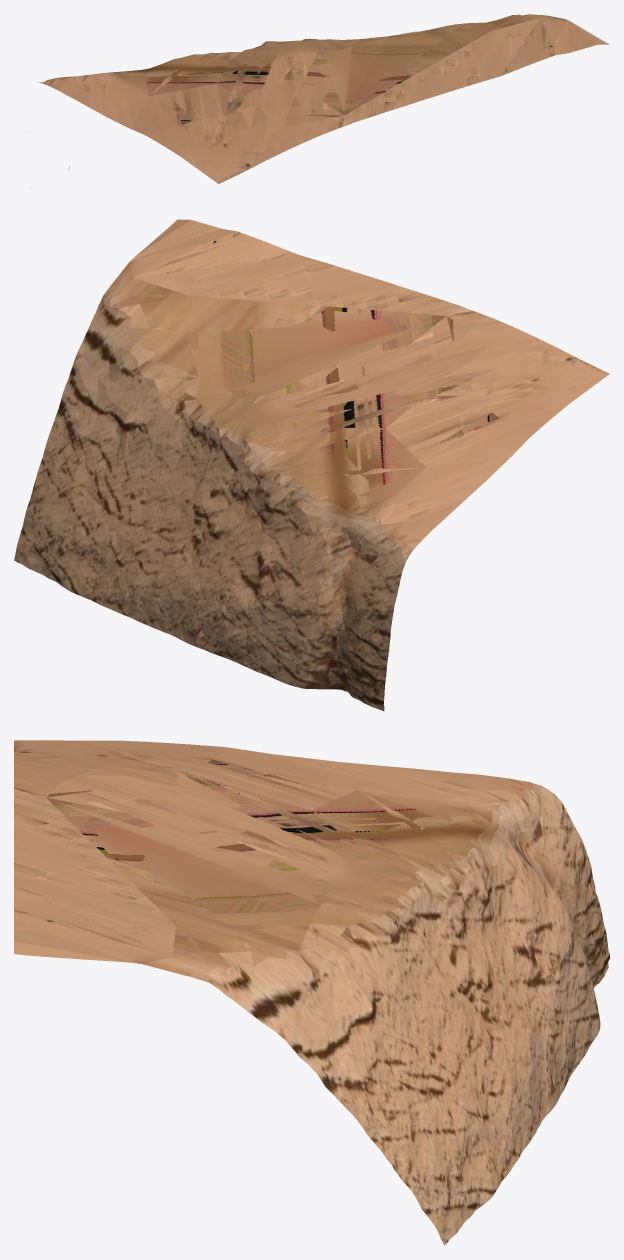
3 renders of one model, top to bottom at view 1: azimuth 30°, elevation 25°; view 2: azimuth 150°, elevation 25°; view 3: azimuth 270°, elevation 25°, orthographic. The views are drawn at different scales.
Size of the model in its own units: 1.04 by 0.5176 by 0.946.
2 materials, 2 textured.
